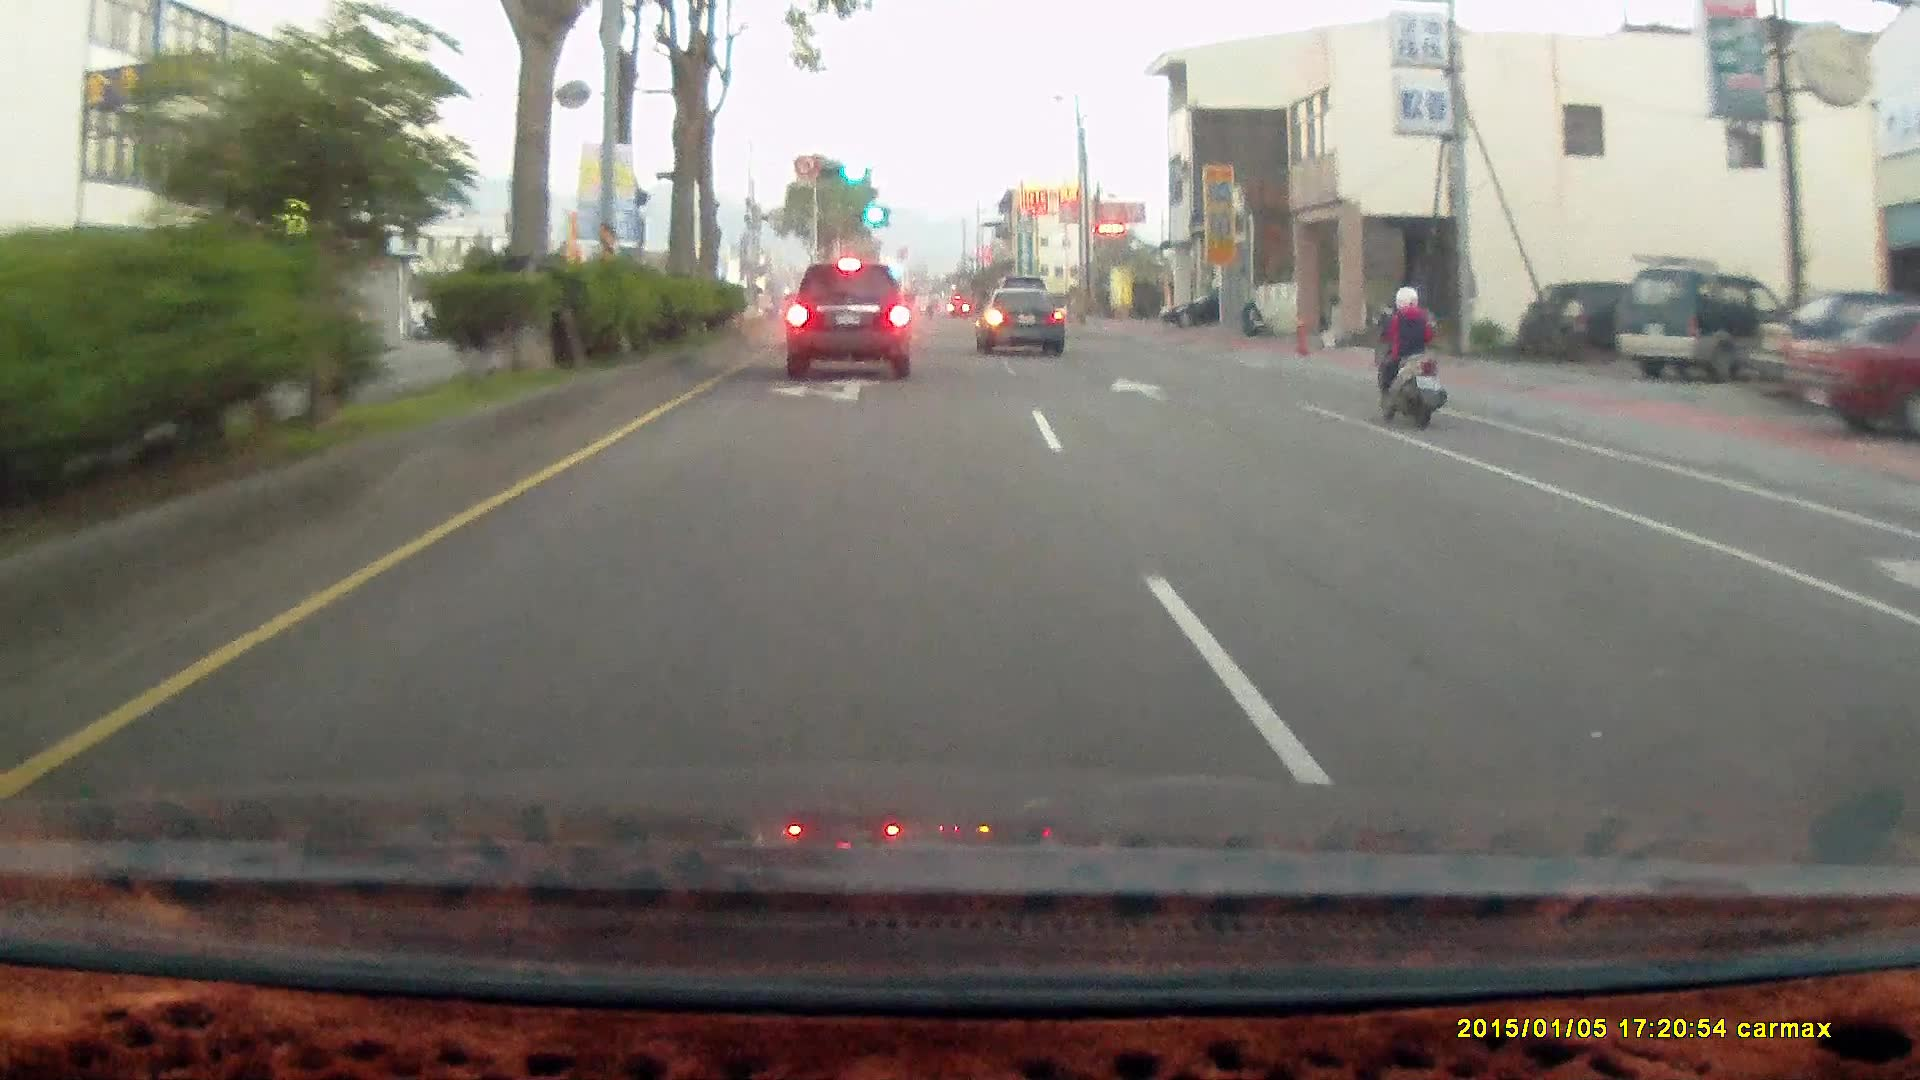rider: (1358, 272, 1459, 440), (1368, 285, 1446, 429)
vehicle: (1612, 268, 1803, 384), (1616, 270, 1795, 388), (1776, 297, 1920, 443), (1783, 301, 1920, 443), (789, 253, 917, 375), (783, 261, 909, 379), (1520, 280, 1637, 359), (975, 287, 1070, 358), (977, 286, 1064, 352), (1159, 289, 1257, 328), (1159, 289, 1223, 333)
